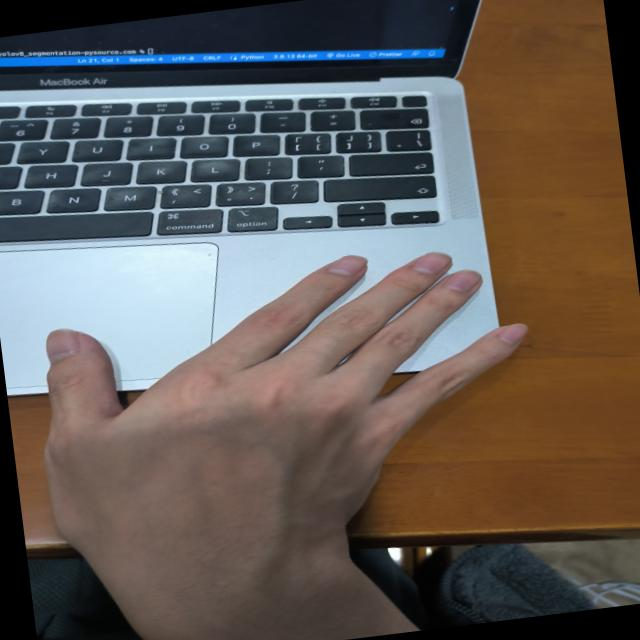Nail: (45, 328, 79, 364), (413, 251, 452, 274), (443, 269, 481, 291), (328, 255, 367, 275), (497, 323, 528, 345)
